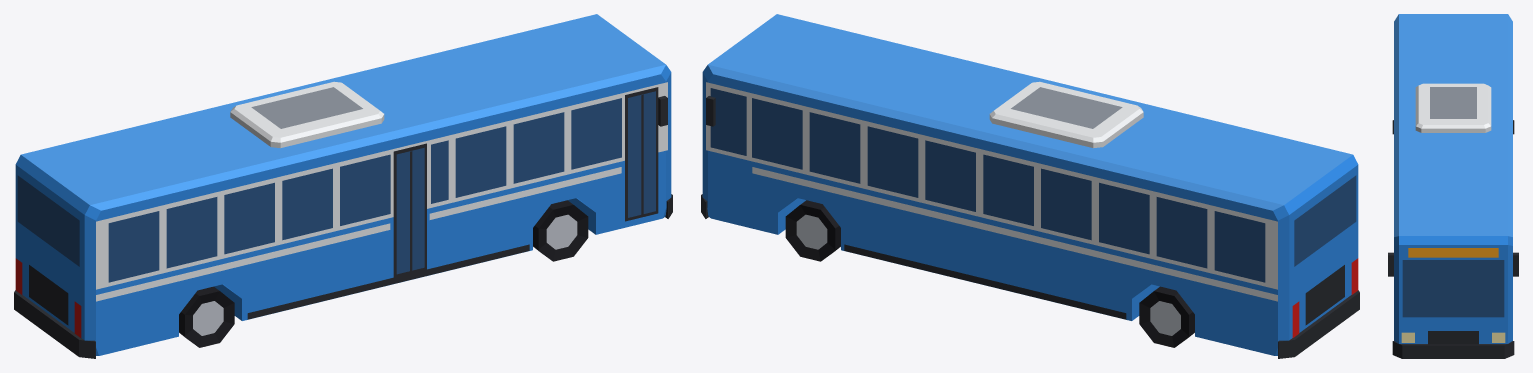
File: bus.glb
3 renders of one model, left to right at view 1: azimuth 30°, elevation 25°; view 2: azimuth 150°, elevation 25°; view 3: azimuth 270°, elevation 25°, orthographic. The views are drawn at different scales.
Visible parts, largest first — view 1: Body; view 2: Body; view 3: Body.
Boxes of the visible parts, x1,y1,x2,y2 form: Body: (14,14,672,358); Body: (701,14,1359,358); Body: (1388,14,1518,358).
Bounding box in the file's own units: 1.15 × 0.3292 × 0.278.
